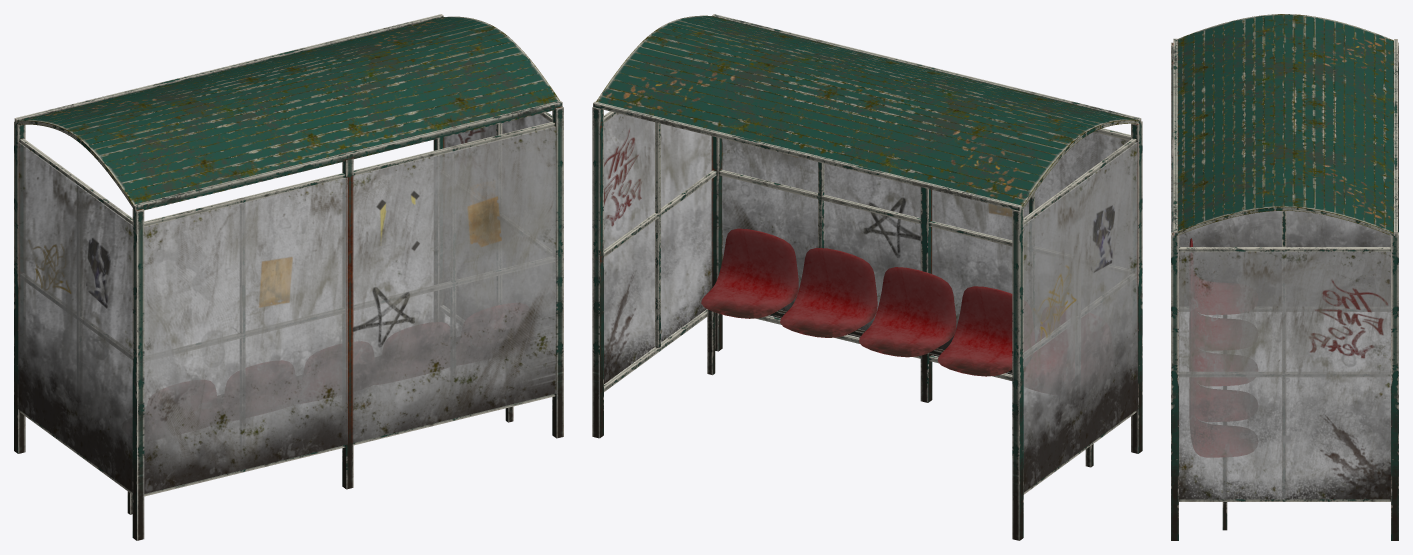
File: shelter_old.glb
3 renders of one model, left to right at view 1: azimuth 30°, elevation 25°; view 2: azimuth 150°, elevation 25°; view 3: azimuth 270°, elevation 25°, orthographic. The views are drawn at different scales.
Visible parts, largest first — view 1: Cube_w; view 2: Cube_w; view 3: Cube_w.
Boxes of the visible parts, x1=… form: Cube_w: x1=14, y1=14, x2=563, y2=540; Cube_w: x1=592, y1=14, x2=1142, y2=540; Cube_w: x1=1171, y1=14, x2=1398, y2=540.
Size of the model in its own units: 3.23 by 2.6 by 1.61.
1 material, 1 textured.
